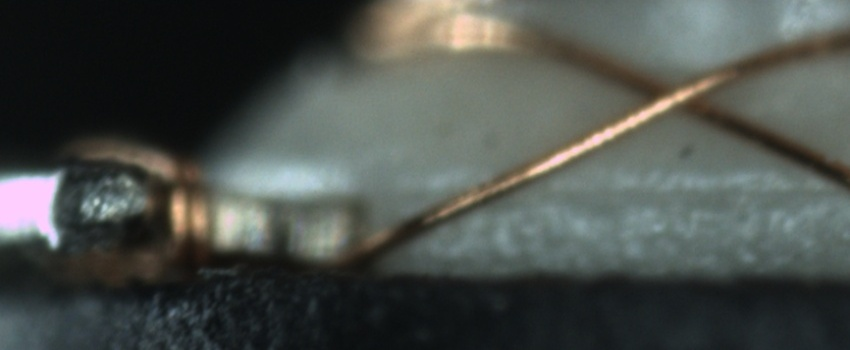CL: (619, 56, 726, 126)
DL: (394, 160, 850, 228)
TE: (59, 129, 218, 280)
